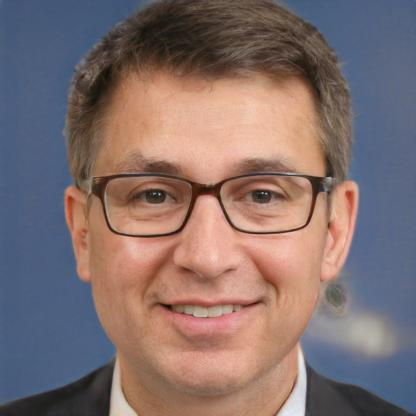glasses: (89, 166, 330, 238)
